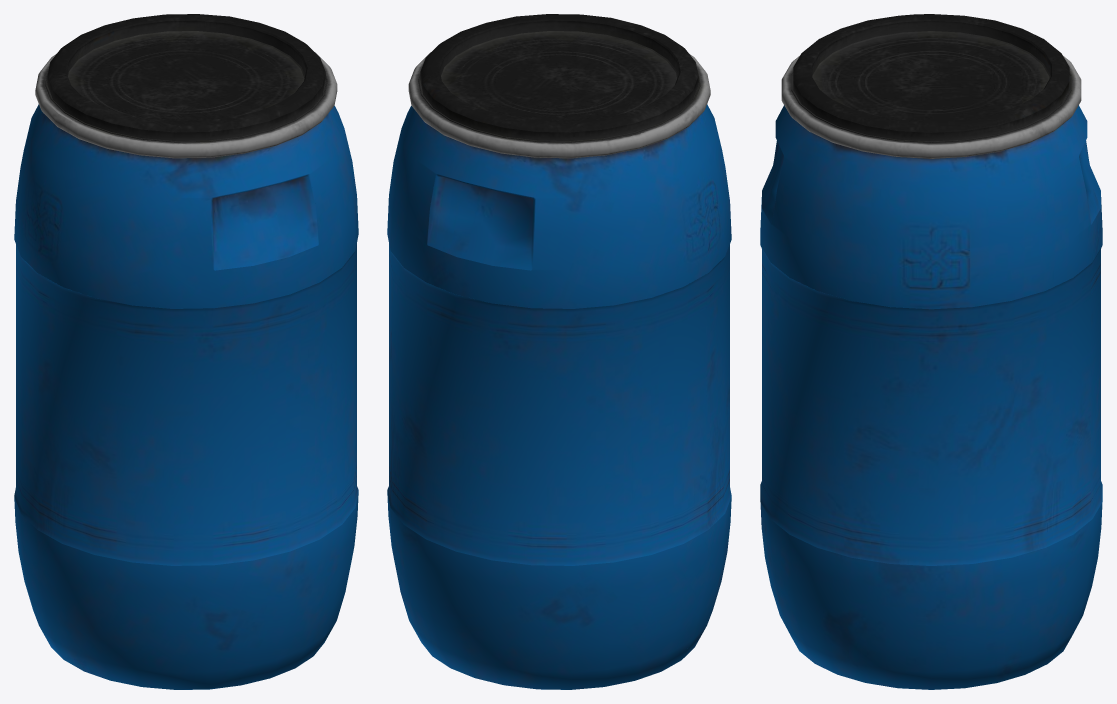
File: Barrel_02.fbx
3 views of the same model, side by side, from view 1: azimuth 30°, elevation 25°; view 2: azimuth 150°, elevation 25°; view 3: azimuth 270°, elevation 25° (orthographic).
Parts seen in each view (by area): view 1: Barrel_02; view 2: Barrel_02; view 3: Barrel_02.
Boxes of the visible parts, x1,y1,x2,y2 form: Barrel_02: (14, 14, 358, 689); Barrel_02: (387, 14, 731, 689); Barrel_02: (760, 14, 1102, 689).
Bounding box in the file's own units: 48.84 × 88 × 48.48.
Materials: 1 (1 with a texture image).
